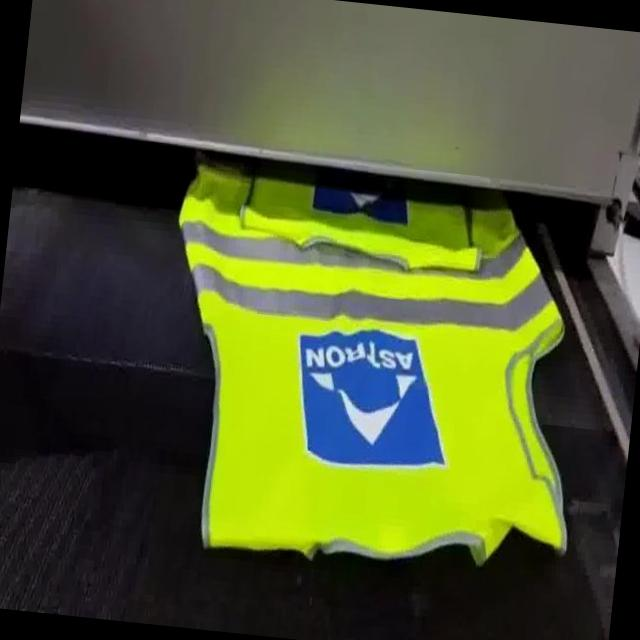vest: (142, 154, 606, 588)
